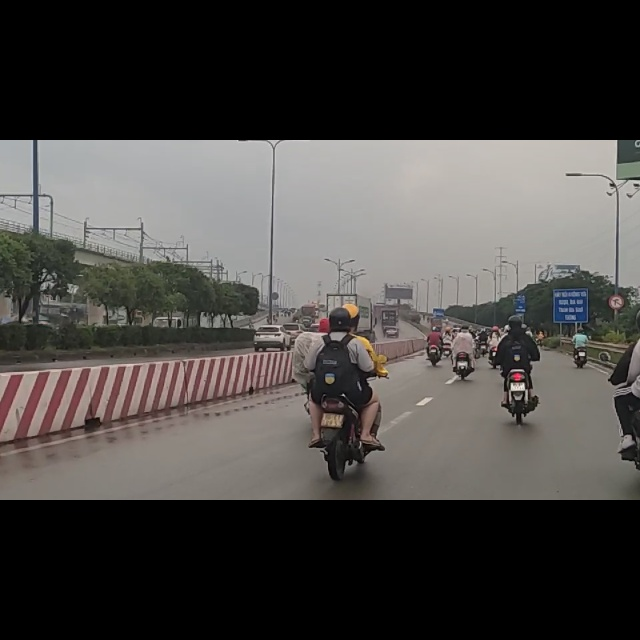bien_chi_dan: (608, 273, 625, 301)
